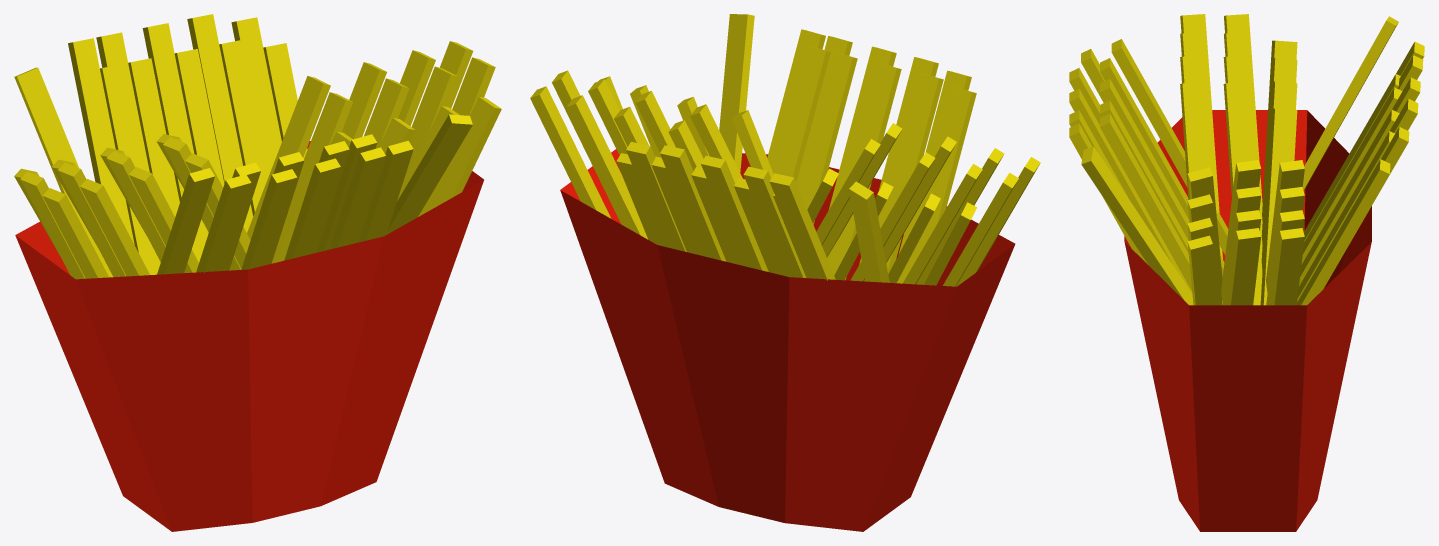
File: Fries.fbx
3 renders of one model, left to right at view 1: azimuth 30°, elevation 25°; view 2: azimuth 150°, elevation 25°; view 3: azimuth 270°, elevation 25°, orthographic. The views are drawn at different scales.
Visible parts, largest first — view 1: 立方体.001; view 2: 立方体.001; view 3: 立方体.001.
Part boxes in pixels (<box>): 立方体.001: <box>14,14,501,531</box>; 立方体.001: <box>530,14,1040,531</box>; 立方体.001: <box>1069,14,1424,531</box>.
Bounding box in the file's own units: 769 × 634 × 513.
